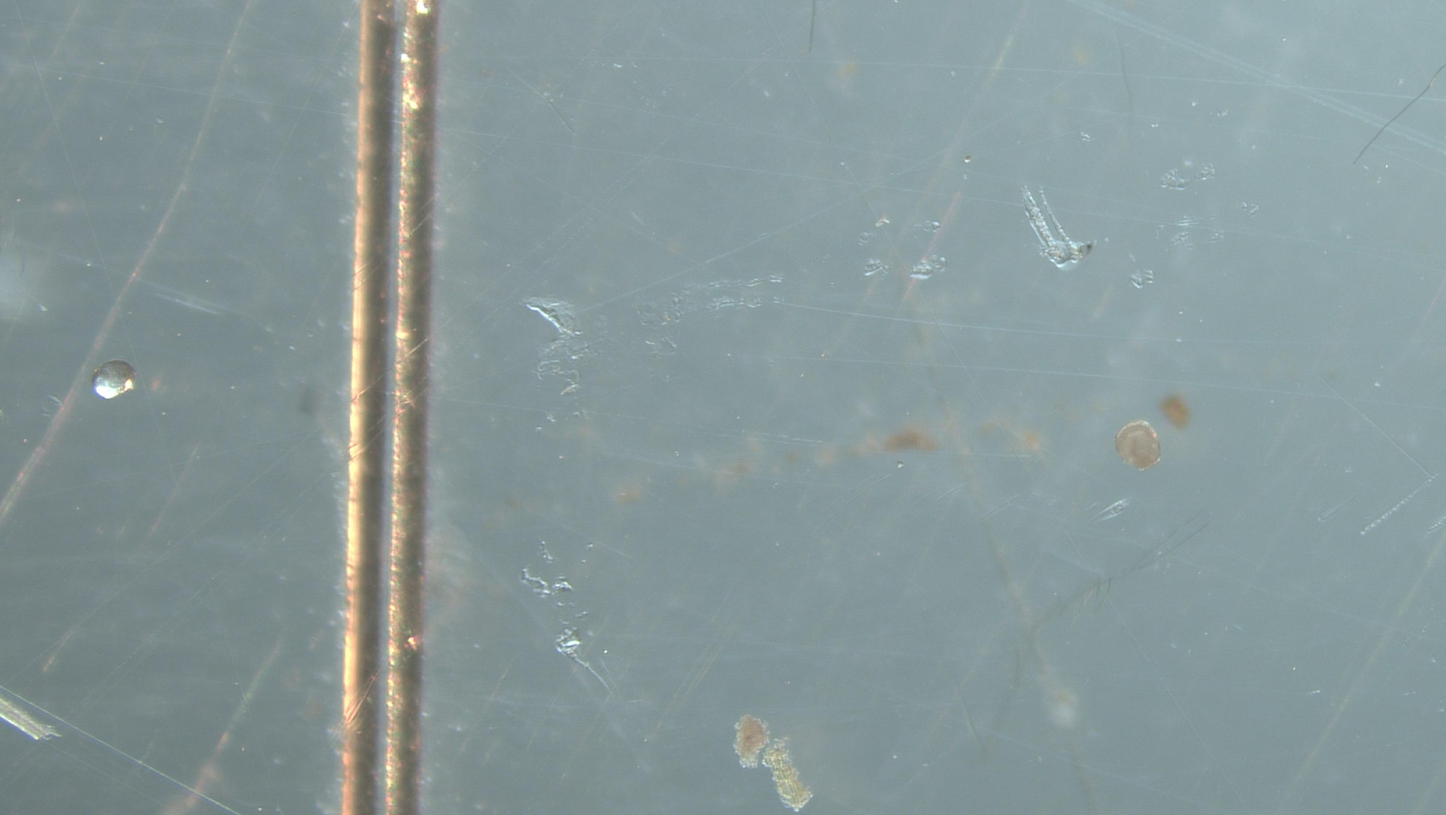live: (1116, 421, 1161, 470)
